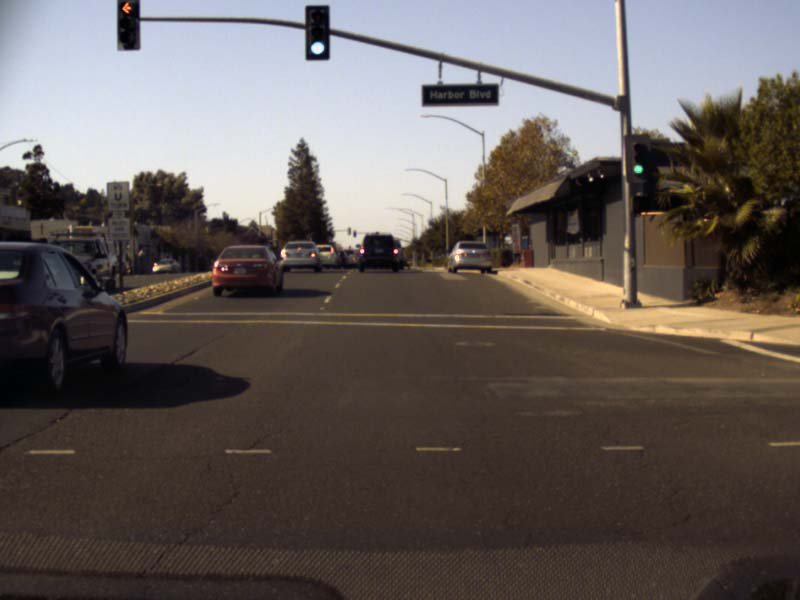Green: (305, 7, 326, 57), (626, 136, 648, 176)
